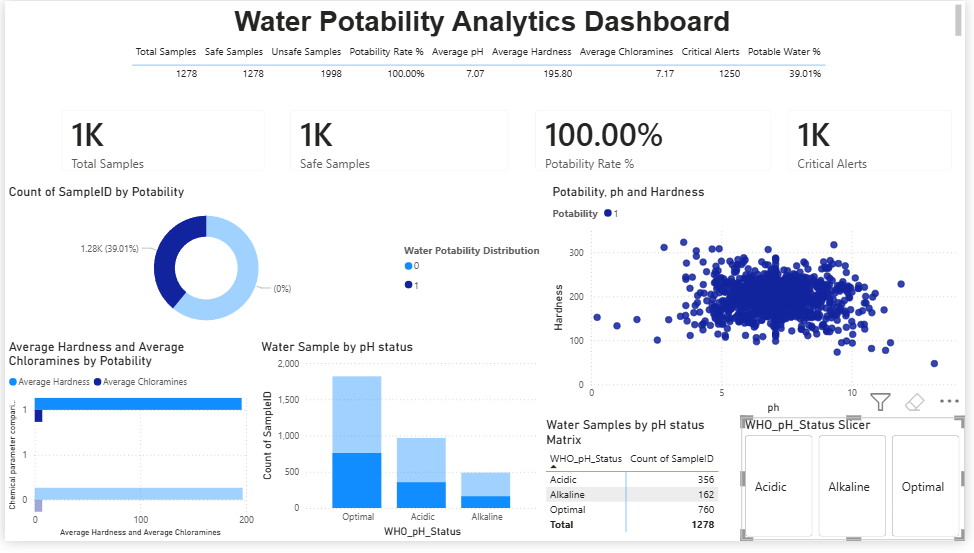

This screenshot's page, from the dashboard's own definition file:
{"tool":"powerbi","page":{"name":"Page 1","canvas":[1280,720],"ordinal":0},"visuals":[{"type":"tableEx","fields":{"Values":["KPI_Measures.Total Samples","KPI_Measures.Safe Samples","KPI_Measures.Unsafe Samples","KPI_Measures.Potability Rate %","KPI_Measures.Average pH","KPI_Measures.Average Hardness","KPI_Measures.Average Chloramines","KPI_Measures.Critical Alerts","KPI_Measures.Potable Water %"]},"box":[163.3,52.2,953.3,75.6],"z":0},{"type":"cardVisual","fields":{"Data":["KPI_Measures.Total Samples"]},"box":[58.3,128.3,305,115],"z":1000},{"type":"cardVisual","fields":{"Data":["KPI_Measures.Safe Samples"]},"box":[363.3,128.3,326.7,115],"z":2000},{"type":"cardVisual","fields":{"Data":["KPI_Measures.Potability Rate %"]},"box":[690,128.3,348.3,115],"z":3000},{"type":"cardVisual","fields":{"Data":["KPI_Measures.Critical Alerts"]},"box":[1026.7,128.3,253.3,115],"z":4000},{"type":"textbox","box":[0,0,1280,52.2],"z":5000},{"type":"clusteredBarChart","fields":{"Category":["Fact_Water_Samples.Potability"],"Y":["KPI_Measures.Average Hardness","KPI_Measures.Average Chloramines"]},"box":[0,450,336.7,270],"z":5001},{"type":"donutChart","fields":{"Category":["Fact_Water_Samples.Potability"],"Y":["CountNonNull(Fact_Water_Samples.SampleID)"]},"box":[0,243.3,725,206.7],"z":5002},{"type":"scatterChart","fields":{"X":["Fact_Water_Samples.ph"],"Y":["Fact_Water_Samples.Hardness"],"Series":["Fact_Water_Samples.Potability"]},"box":[725,243.3,555,311.7],"z":5003},{"type":"pivotTable","title":"Water Samples by pH  status Matrix","fields":{"Rows":["Fact_Water_Samples.WHO_pH_Status"],"Values":["CountNonNull(Fact_Water_Samples.SampleID)"]},"box":[716.7,555,265,165],"z":5004},{"type":"clusteredColumnChart","title":"Water Sample by pH status","fields":{"Category":["Fact_Water_Samples.WHO_pH_Status"],"Y":["CountNonNull(Fact_Water_Samples.SampleID)"]},"box":[336.7,450,380,270],"z":5005},{"type":"advancedSlicerVisual","title":"WHO_pH_Status Slicer","fields":{"Values":["Fact_Water_Samples.WHO_pH_Status"]},"box":[981.7,555,298.3,165],"z":5006}]}

Visuals, with their boxes in screenshot pixels (x1, y1, x2, y2), scaled from the page's 1280x720 canvas onto the 974x553 screenshot:
tableEx - KPI_Measures.Total Samples x KPI_Measures.Safe Samples: crop(124, 40, 850, 98)
cardVisual - KPI_Measures.Total Samples: crop(44, 99, 276, 187)
cardVisual - KPI_Measures.Safe Samples: crop(276, 99, 525, 187)
cardVisual - KPI_Measures.Potability Rate %: crop(525, 99, 790, 187)
cardVisual - KPI_Measures.Critical Alerts: crop(781, 99, 973, 187)
textbox: crop(0, 0, 973, 40)
clusteredBarChart - Fact_Water_Samples.Potability x KPI_Measures.Average Hardness: crop(0, 346, 256, 552)
donutChart - Fact_Water_Samples.Potability x CountNonNull(Fact_Water_Samples.SampleID): crop(0, 187, 552, 346)
scatterChart - Fact_Water_Samples.ph x Fact_Water_Samples.Hardness: crop(552, 187, 973, 426)
"Water Samples by pH  status Matrix" pivotTable: crop(545, 426, 747, 552)
"Water Sample by pH status" clusteredColumnChart: crop(256, 346, 545, 552)
"WHO_pH_Status Slicer" advancedSlicerVisual: crop(747, 426, 973, 552)
